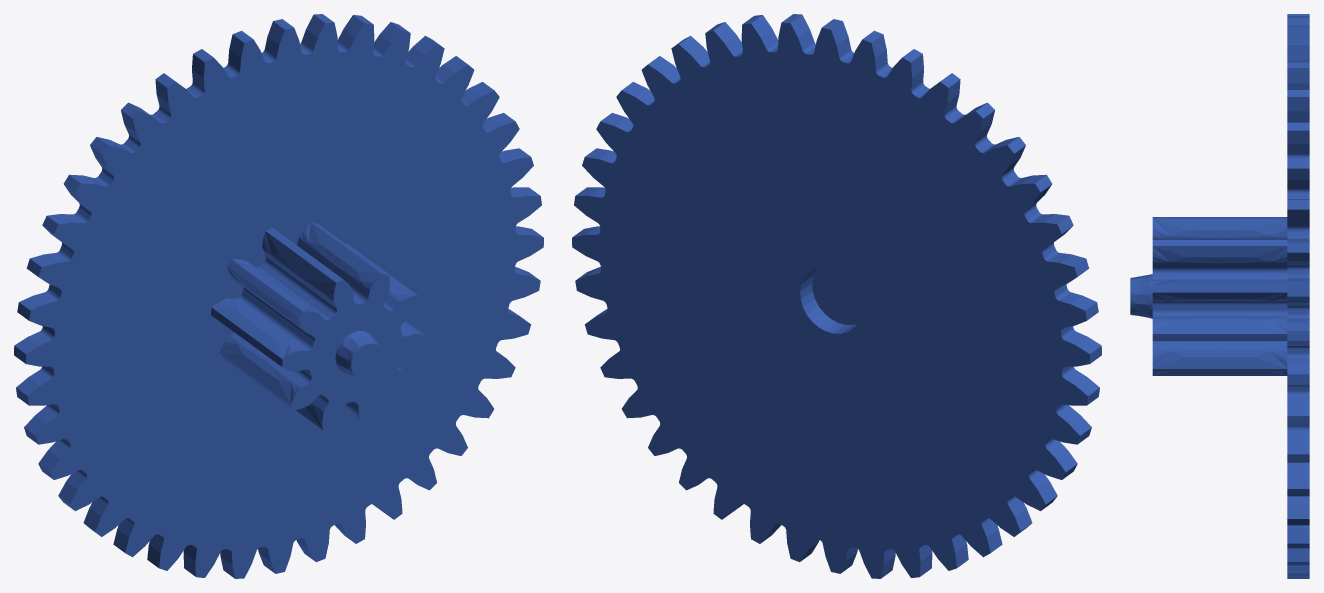
Rendered from Spur_gear_40_teeth_4.glb.
The picture shows the model from 3 angles, left to right: view 1: azimuth 30°, elevation 25°; view 2: azimuth 150°, elevation 25°; view 3: azimuth 270°, elevation 25°; orthographic projection. The views are drawn at different scales.
Parts seen in each view (by area): view 1: Spur gear (40 teeth)_4; view 2: Spur gear (40 teeth)_4; view 3: Spur gear (40 teeth)_4.
Part boxes in pixels (x1,y1,x2,y2): Spur gear (40 teeth)_4: [14, 14, 543, 578]; Spur gear (40 teeth)_4: [572, 14, 1101, 578]; Spur gear (40 teeth)_4: [1130, 14, 1309, 578].
Size of the model in its own units: 25.2 by 25.2 by 8.
